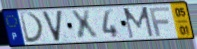4: (101, 8, 120, 39)
D: (18, 12, 46, 45)
F: (148, 6, 171, 38)
M: (122, 6, 156, 40)
V: (40, 9, 64, 44)
X: (69, 9, 101, 42)
